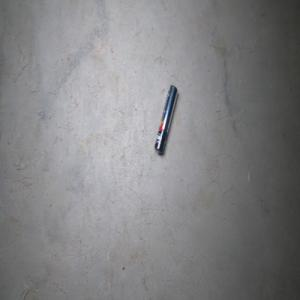Battery: (154, 83, 178, 155)
